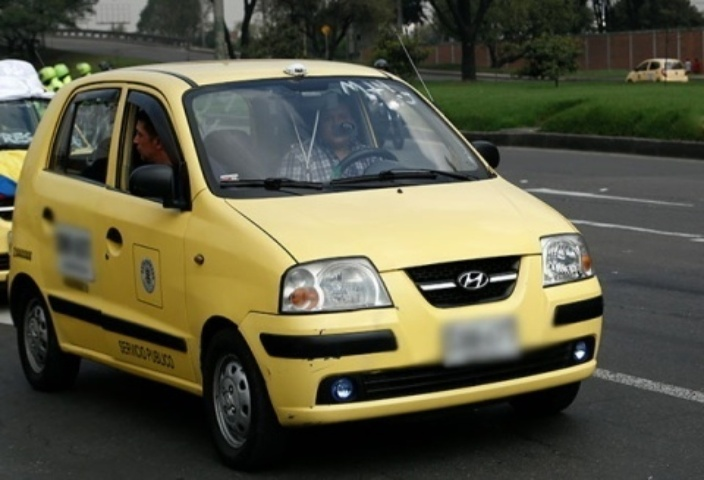taxi: (15, 42, 607, 449)
